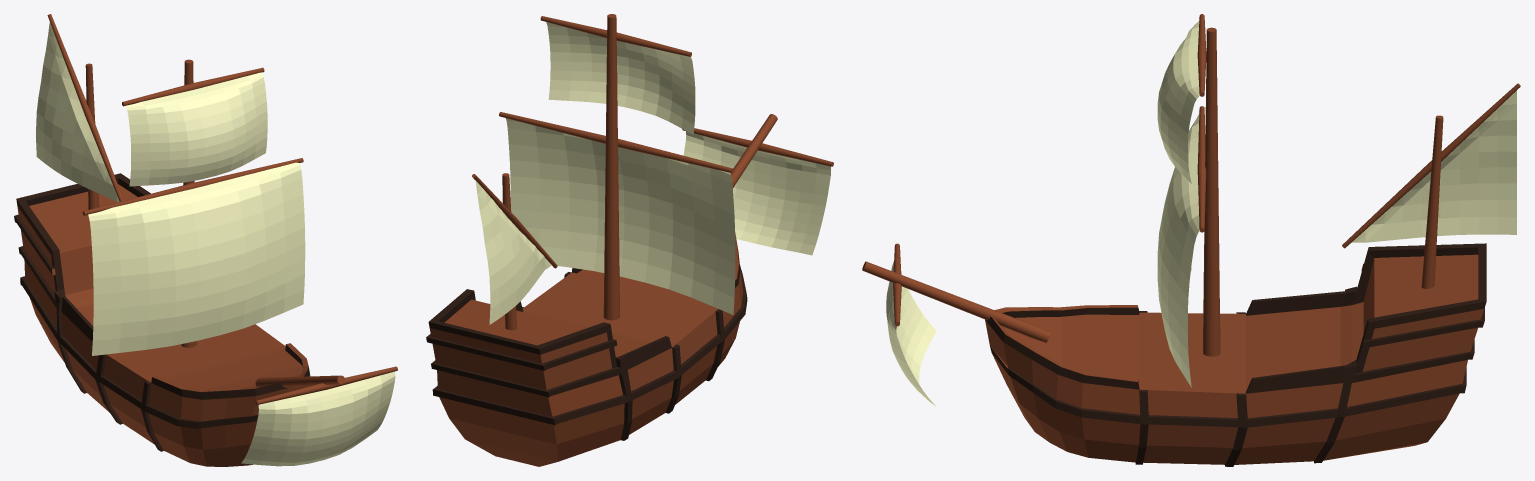
File: avatar.glb
3 renders of one model, left to right at view 1: azimuth 30°, elevation 25°; view 2: azimuth 150°, elevation 25°; view 3: azimuth 270°, elevation 25°, orthographic. The views are drawn at different scales.
Visible parts, largest first — view 1: Sail_Main1, Body, Sail_Main2, Sail_Front, Sail_Back, Transom_Back, Transom_Main1, Transom_Front, Transom_Main2, Mast_Front, Mast_Back; view 2: Body, Sail_Main1, Sail_Main2, Sail_Front, Sail_Back, Mast_Main, Transom_Main1, Transom_Main2, Transom_Front, Mast_Front, Transom_Back, Mast_Back; view 3: Body, Sail_Back, Sail_Main1, Mast_Main, Sail_Main2, Sail_Front, Mast_Front, Mast_Back, Transom_Back, Transom_Main1.
Boxes of the visible parts, x1=… form: Sail_Main1: x1=88, y1=162, x2=305, y2=355; Body: x1=14, y1=173, x2=310, y2=466; Sail_Main2: x1=126, y1=72, x2=267, y2=186; Sail_Front: x1=241, y1=371, x2=395, y2=466; Sail_Back: x1=36, y1=22, x2=119, y2=202; Transom_Back: x1=47, y1=14, x2=123, y2=201; Transom_Main1: x1=82, y1=158, x2=303, y2=215; Transom_Front: x1=255, y1=366, x2=397, y2=404; Transom_Main2: x1=122, y1=67, x2=264, y2=106; Mast_Front: x1=255, y1=375, x2=344, y2=387; Mast_Back: x1=85, y1=63, x2=99, y2=209; Body: x1=426, y1=232, x2=747, y2=466; Sail_Main1: x1=505, y1=118, x2=735, y2=314; Sail_Main2: x1=546, y1=22, x2=695, y2=134; Sail_Front: x1=683, y1=131, x2=830, y2=255; Sail_Back: x1=475, y1=180, x2=551, y2=324; Mast_Main: x1=603, y1=14, x2=619, y2=320; Transom_Main1: x1=499, y1=112, x2=733, y2=172; Transom_Main2: x1=540, y1=16, x2=691, y2=56; Transom_Front: x1=682, y1=128, x2=833, y2=166; Mast_Front: x1=730, y1=114, x2=777, y2=188; Transom_Back: x1=472, y1=174, x2=557, y2=268; Mast_Back: x1=502, y1=173, x2=517, y2=330; Body: x1=985, y1=243, x2=1486, y2=466; Sail_Back: x1=1352, y1=90, x2=1516, y2=242; Sail_Main1: x1=1157, y1=114, x2=1199, y2=387; Mast_Main: x1=1203, y1=27, x2=1220, y2=356; Sail_Main2: x1=1157, y1=21, x2=1199, y2=183; Sail_Front: x1=886, y1=261, x2=936, y2=405; Mast_Front: x1=862, y1=261, x2=1050, y2=342; Mast_Back: x1=1421, y1=115, x2=1443, y2=288; Transom_Back: x1=1342, y1=83, x2=1520, y2=248; Transom_Main1: x1=1197, y1=106, x2=1206, y2=232.
Size of the model in its own units: 3.48 by 5.52 by 7.96.
